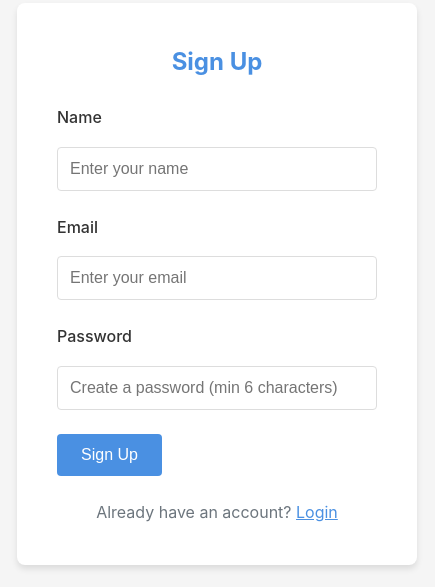
Scenario: Signup Component › disables submit button while loading
The width and height of the screenshot is (435, 587).
Step 1. Type "John Doe" into the field labelled "Name" → {"x": 217, "y": 169}, box x1=57 y1=147 x2=377 y2=191
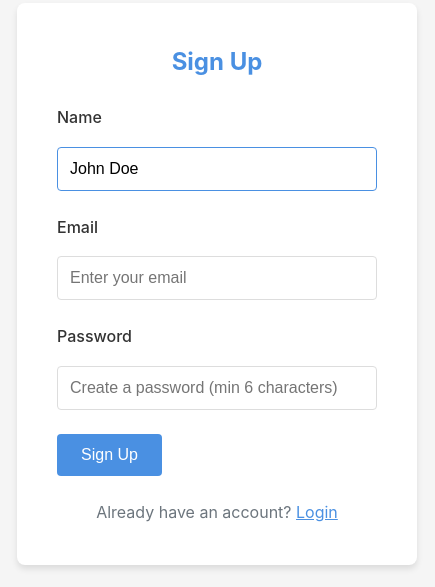
Step 2. Type "john@example.com" into the field labelled "Email" → {"x": 217, "y": 278}, box x1=57 y1=256 x2=377 y2=300
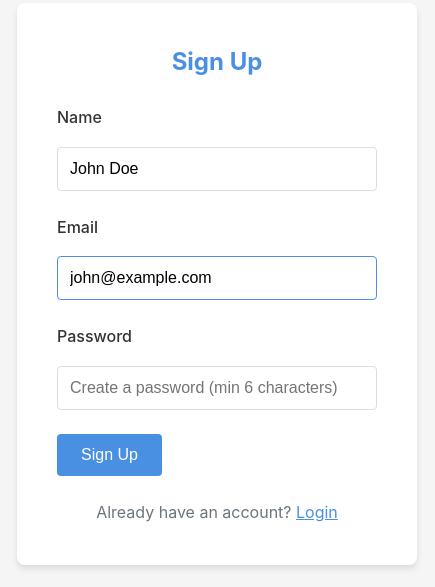
Step 3. Type "password123" into the password field labelled "Password" → {"x": 217, "y": 388}, box x1=57 y1=366 x2=377 y2=410
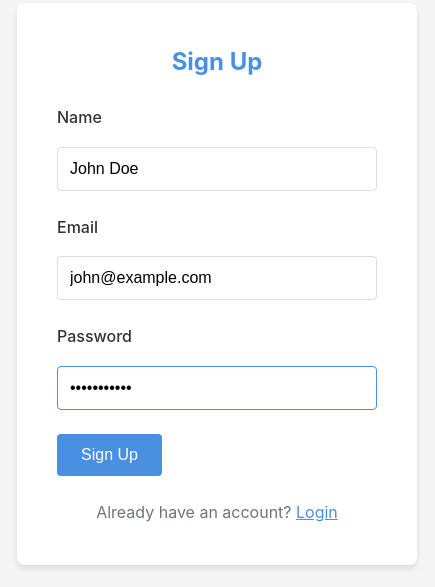
Step 4. Click the button "Sign Up" → {"x": 109, "y": 455}, box x1=57 y1=434 x2=162 y2=476
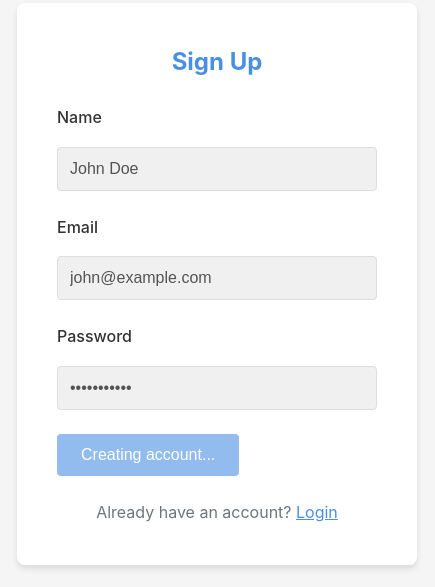
Check: the button "Creating account..." is disabled, box x1=57 y1=434 x2=239 y2=476
